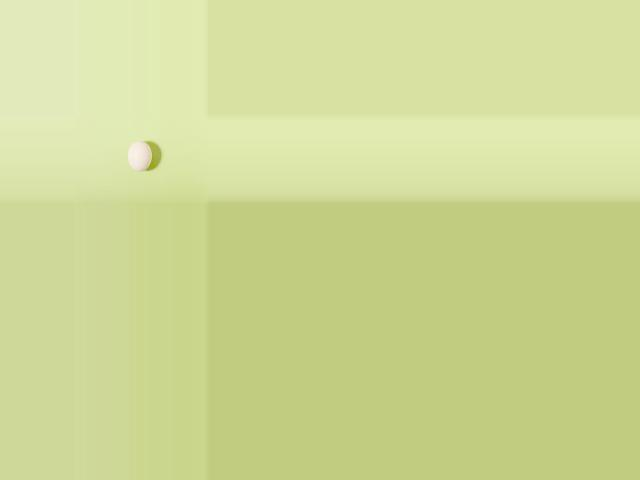egg: (129, 141, 152, 172)
